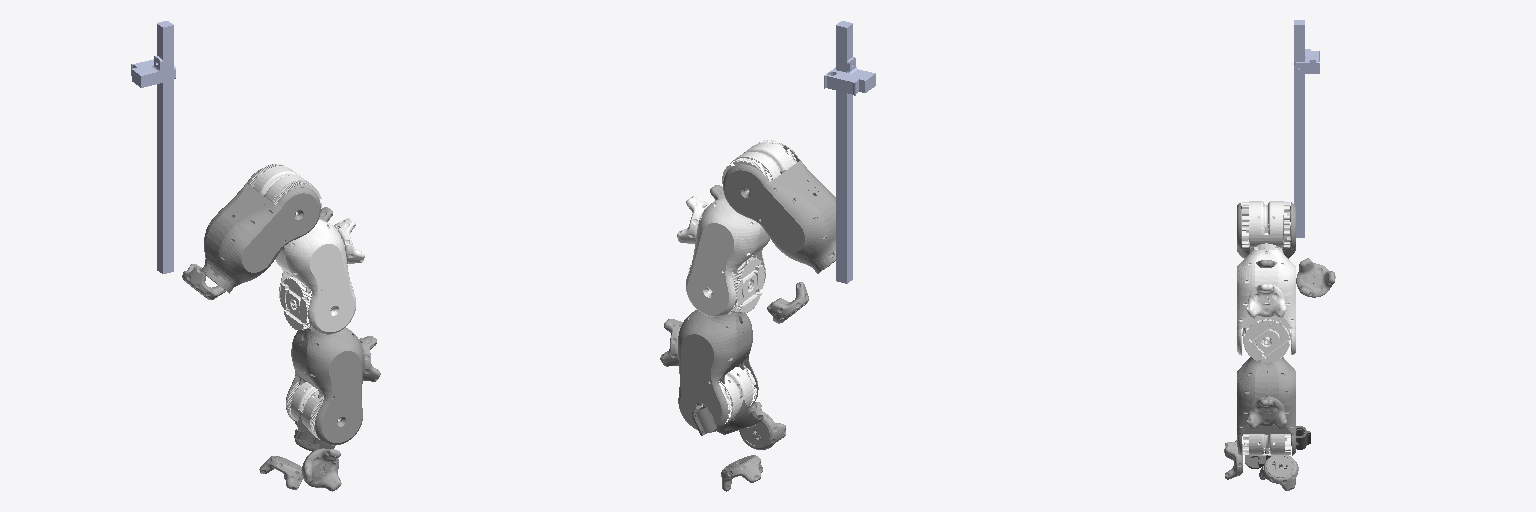
robot.urdf — koko_description_sevendof_kin:
<robot
  name="koko_description_sevendof_kin">
  <link name="world"/>
  <link
    name="base_link">
    <inertial>
      <origin
        xyz="0.012870283424599 -0.146460771615819 0.199851243077833"
        rpy="0 0 0" />
      <mass
        value="5.30617493719281" />
      <inertia
        ixx="0.167859643379243"
        ixy="-0.0181596573247314"
        ixz="0.00370892628271697"
        iyy="0.155525388827852"
        iyz="-0.0306003369765196"
        izz="0.0830686215437385" />
    </inertial>
    <visual>
      <origin
        xyz="0 0 0"
        rpy="0 0 0" />
      <geometry>
        <mesh
          filename="package://koko_description_sevendof_kin/meshes/base_link.STL" />
      </geometry>
      <material
        name="">
        <color
          rgba="0.792156862745098 0.819607843137255 0.933333333333333 1" />
      </material>
    </visual>
    <collision>
      <origin
        xyz="0 0 0"
        rpy="0 0 0" />
      <geometry>
        <mesh
          filename="package://koko_description_sevendof_kin/meshes/base_link.STL" />
      </geometry>
    </collision>
  </link>
  <link
    name="shoulder_link">
    <inertial>
      <origin
        xyz="-0.00518874659014712 7.90714814608018E-06 0.0778921147892145"
        rpy="0 0 0" />
      <mass
        value="2.01456804587825" />
      <inertia
        ixx="0.0104358255696714"
        ixy="1.85927513005904E-06"
        ixz="0.000187864909023401"
        iyy="0.00992302221285427"
        iyz="-3.95022985902063E-06"
        izz="0.00452603936468363" />
    </inertial>
    <visual>
      <origin
        xyz="0 0 0"
        rpy="0 0 0" />
      <geometry>
        <mesh
          filename="package://koko_description_sevendof_kin/meshes/shoulder_link.STL" />
      </geometry>
      <material
        name="">
        <color
          rgba="0.698039215686274 0.698039215686274 0.698039215686274 1" />
      </material>
    </visual>
    <collision>
      <origin
        xyz="0 0 0"
        rpy="0 0 0" />
      <geometry>
        <mesh
          filename="package://koko_description_sevendof_kin/meshes/shoulder_link.STL" />
      </geometry>
    </collision>
  </link>
  <joint
    name="base_roll_joint"
    type="continuous">
    <origin
      xyz="0.0901789447182363 -0.0908049999999997 0.212155832960628"
      rpy="6.83851519316138E-15 0.785398163397447 4.83556046633164E-15" />
    <parent
      link="base_link" />
    <child
      link="shoulder_link" />
    <axis
      xyz="0 0 1" />
  </joint>
  <link
    name="shoulder_lift_link">
    <inertial>
      <origin
        xyz="8.56700436199787E-05 0.00010654053757414 -2.9972230730646E-06"
        rpy="0 0 0" />
      <mass
        value="0.491671117165989" />
      <inertia
        ixx="0.00108090636725938"
        ixy="-6.67404349023893E-06"
        ixz="-6.13266050289641E-07"
        iyy="0.00110224655576866"
        iyz="-9.06027102110219E-07"
        izz="0.000715449666977584" />
    </inertial>
    <visual>
      <origin
        xyz="0 0 0"
        rpy="0 0 0" />
      <geometry>
        <mesh
          filename="package://koko_description_sevendof_kin/meshes/shoulder_lift_link.STL" />
      </geometry>
      <material
        name="">
        <color
          rgba="1 1 1 1" />
      </material>
    </visual>
    <collision>
      <origin
        xyz="0 0 0"
        rpy="0 0 0" />
      <geometry>
        <mesh
          filename="package://koko_description_sevendof_kin/meshes/shoulder_lift_link.STL" />
      </geometry>
    </collision>
  </link>
  <joint
    name="shoulder_lift_joint"
    type="continuous">
    <origin
      xyz="0.0114299285786579 4.04065193964076E-05 0.210820000000001"
      rpy="1.5707963267949 -0.785395039094458 0.0035351359132397" />
    <parent
      link="shoulder_link" />
    <child
      link="shoulder_lift_link" />
    <axis
      xyz="0 0 1" />
  </joint>
  <link
    name="upper_arm_link">
    <inertial>
      <origin
        xyz="0.00609369132194054 -3.24757141115795E-05 0.0608213327590084"
        rpy="0 0 0" />
      <mass
        value="1.74743726474448" />
      <inertia
        ixx="0.00721735480213021"
        ixy="-1.74231660649774E-06"
        ixz="3.18076302441607E-06"
        iyy="0.0066862072655567"
        iyz="4.81729928094709E-06"
        izz="0.00408333582741531" />
    </inertial>
    <visual>
      <origin
        xyz="0 0 0"
        rpy="0 0 0" />
      <geometry>
        <mesh
          filename="package://koko_description_sevendof_kin/meshes/upper_arm_link.STL" />
      </geometry>
      <material
        name="">
        <color
          rgba="1 1 1 1" />
      </material>
    </visual>
    <collision>
      <origin
        xyz="0 0 0"
        rpy="0 0 0" />
      <geometry>
        <mesh
          filename="package://koko_description_sevendof_kin/meshes/upper_arm_link.STL" />
      </geometry>
    </collision>
  </link>
  <joint
    name="shoulder_roll_joint"
    type="continuous">
    <origin
      xyz="0.0245928619569141 -0.0662368676461337 0"
      rpy="1.5707963267949 -0.00266644576657517 0.355511126450564" />
    <parent
      link="shoulder_lift_link" />
    <child
      link="upper_arm_link" />
    <axis
      xyz="0 0 -1" />
  </joint>
  <link
    name="upper_arm_lift_link">
    <inertial>
      <origin
        xyz="8.84356752833548E-05 0.000101387574016315 -3.00231190070166E-06"
        rpy="0 0 0" />
      <mass
        value="0.4910945909981" />
      <inertia
        ixx="0.0010794675496049"
        ixy="-2.637206335515E-06"
        ixz="-1.8617763035461E-06"
        iyy="0.00110223920923269"
        iyz="-8.57651055146512E-07"
        izz="0.000713963218283621" />
    </inertial>
    <visual>
      <origin
        xyz="0 0 0"
        rpy="0 0 0" />
      <geometry>
        <mesh
          filename="package://koko_description_sevendof_kin/meshes/upper_arm_lift_link.STL" />
      </geometry>
      <material
        name="">
        <color
          rgba="1 1 1 1" />
      </material>
    </visual>
    <collision>
      <origin
        xyz="0 0 0"
        rpy="0 0 0" />
      <geometry>
        <mesh
          filename="package://koko_description_sevendof_kin/meshes/upper_arm_lift_link.STL" />
      </geometry>
    </collision>
  </link>
  <joint
    name="elbow_lift_joint"
    type="continuous">
    <origin
      xyz="-0.0114299541998245 3.04774259364815E-05 0.181015677385081"
      rpy="-1.5707963267949 -0.355504877844586 -0.0026664457665753" />
    <parent
      link="upper_arm_link" />
    <child
      link="upper_arm_lift_link" />
    <axis
      xyz="0 0 1" />
  </joint>
  <link
    name="forearm_link">
    <inertial>
      <origin
        xyz="0.00609794825852328 -3.45327458729505E-05 0.0632167600955606"
        rpy="0 0 0" />
      <mass
        value="1.74772059521985" />
      <inertia
        ixx="0.00717580641928532"
        ixy="-1.61087741471946E-06"
        ixz="-3.38766044835458E-06"
        iyy="0.00664405421478125"
        iyz="5.38563806629474E-06"
        izz="0.00408394973892555" />
    </inertial>
    <visual>
      <origin
        xyz="0 0 0"
        rpy="0 0 0" />
      <geometry>
        <mesh
          filename="package://koko_description_sevendof_kin/meshes/forearm_link.STL" />
      </geometry>
      <material
        name="">
        <color
          rgba="0.698039215686274 0.698039215686274 0.698039215686274 1" />
      </material>
    </visual>
    <collision>
      <origin
        xyz="0 0 0"
        rpy="0 0 0" />
      <geometry>
        <mesh
          filename="package://koko_description_sevendof_kin/meshes/forearm_link.STL" />
      </geometry>
    </collision>
  </link>
  <joint
    name="elbow_roll_joint"
    type="continuous">
    <origin
      xyz="0.00778446382641085 -0.0702248716034493 0"
      rpy="1.5707963267949 -0.00251502707069075 0.11039980475715" />
    <parent
      link="upper_arm_lift_link" />
    <child
      link="forearm_link" />
    <axis
      xyz="0 0 -1" />
  </joint>
  <link
    name="forearm_tracker_link">
    <inertial>
      <origin
        xyz="-7.74493666921838E-07 3.04089012037878E-05 0.0143118679906802"
        rpy="0 0 0" />
      <mass
        value="0.085205801529096" />
      <inertia
        ixx="5.02600714967744E-05"
        ixy="3.55487556876048E-09"
        ixz="7.91609112890932E-10"
        iyy="5.05430641945225E-05"
        iyz="-1.54448545755472E-07"
        izz="8.48822146540676E-05" />
    </inertial>
    <visual>
      <origin
        xyz="0 0 0"
        rpy="0 0 0" />
      <geometry>
        <mesh
          filename="package://koko_description_sevendof_kin/meshes/forearm_tracker_link.STL" />
      </geometry>
      <material
        name="">
        <color
          rgba="0.698039215686274 0.698039215686274 0.698039215686274 1" />
      </material>
    </visual>
    <collision>
      <origin
        xyz="0 0 0"
        rpy="0 0 0" />
      <geometry>
        <mesh
          filename="package://koko_description_sevendof_kin/meshes/forearm_tracker_link.STL" />
      </geometry>
    </collision>
  </link>
  <joint
    name="forearm_tracker_joint"
    type="fixed">
    <origin
      xyz="0.0683718588661483 -0.000172162669981935 0.0965426886750276"
      rpy="1.26028779817361 -4.44479261962489E-05 1.56829556254391" />
    <parent
      link="forearm_link" />
    <child
      link="forearm_tracker_link" />
    <axis
      xyz="0 0 0" />
  </joint>
  <link
    name="wrist_lift_link">
    <inertial>
      <origin
        xyz="0.000127836210901899 3.90137200076829E-05 -2.99282089472053E-06"
        rpy="0 0 0" />
      <mass
        value="0.491088159923728" />
      <inertia
        ixx="0.00108469359167175"
        ixy="9.48558786334864E-06"
        ixz="-1.94945080136335E-06"
        iyy="0.00109703339225256"
        iyz="1.85051906992597E-07"
        izz="0.000713962889826841" />
    </inertial>
    <visual>
      <origin
        xyz="0 0 0"
        rpy="0 0 0" />
      <geometry>
        <mesh
          filename="package://koko_description_sevendof_kin/meshes/wrist_lift_link.STL" />
      </geometry>
      <material
        name="">
        <color
          rgba="1 1 1 1" />
      </material>
    </visual>
    <collision>
      <origin
        xyz="0 0 0"
        rpy="0 0 0" />
      <geometry>
        <mesh
          filename="package://koko_description_sevendof_kin/meshes/wrist_lift_link.STL" />
      </geometry>
    </collision>
  </link>
  <joint
    name="wrist_lift_joint"
    type="continuous">
    <origin
      xyz="-0.0114299638505801 2.87467290523424E-05 0.181015691663285"
      rpy="-1.5707963267949 -0.110406053363127 -0.00251502707069052" />
    <parent
      link="forearm_link" />
    <child
      link="wrist_lift_link" />
    <axis
      xyz="0 0 1" />
  </joint>
  <link
    name="wrist_link">
    <inertial>
      <origin
        xyz="-0.000126164739804535 0.0433325364416689 0.0224239702203065"
        rpy="0 0 0" />
      <mass
        value="0.196389998403157" />
      <inertia
        ixx="0.000228576786741867"
        ixy="-5.49849326423581E-07"
        ixz="-5.71606492613851E-07"
        iyy="0.000212235889871566"
        iyz="-8.39385916915871E-05"
        izz="0.000234824604396145" />
    </inertial>
    <visual>
      <origin
        xyz="0 0 0"
        rpy="0 0 0" />
      <geometry>
        <mesh
          filename="package://koko_description_sevendof_kin/meshes/wrist_link.STL" />
      </geometry>
      <material
        name="">
        <color
          rgba="0.498039215686275 0.498039215686275 0.498039215686275 1" />
      </material>
    </visual>
    <collision>
      <origin
        xyz="0 0 0"
        rpy="0 0 0" />
      <geometry>
        <mesh
          filename="package://koko_description_sevendof_kin/meshes/wrist_link.STL" />
      </geometry>
    </collision>
  </link>
  <joint
    name="wrist_joint"
    type="continuous">
    <origin
      xyz="-0.0115762892877892 -0.0214116625791075 0"
      rpy="1.62543589699027E-15 -1.18308141061618E-15 2.64595360386185" />
    <parent
      link="wrist_lift_link" />
    <child
      link="wrist_link" />
    <axis
      xyz="0 -1 0" />
  </joint>



  <link
    name="ee_tracker_link">
    <inertial>
      <origin
        xyz="-1.43305547234407E-06 3.07686086425812E-05 0.0143119732879843"
        rpy="0 0 0" />
      <mass
        value="0.0852083038792347" />
      <inertia
        ixx="5.02597890613365E-05"
        ixy="3.05566589570515E-09"
        ixz="1.41676664956198E-09"
        iyy="5.05458638065493E-05"
        iyz="-1.54535044158343E-07"
        izz="8.4884681388761E-05" />
    </inertial>
    <visual>
      <origin
        xyz="0 0 0"
        rpy="0 0 0" />
      <geometry>
        <mesh
          filename="package://koko_description_sevendof_kin/meshes/ee_tracker_link.STL" />
      </geometry>
      <material
        name="">
        <color
          rgba="0.698039215686274 0.698039215686274 0.698039215686274 1" />
      </material>
    </visual>
    <collision>
      <origin
        xyz="0 0 0"
        rpy="0 0 0" />
      <geometry>
        <mesh
          filename="package://koko_description_sevendof_kin/meshes/ee_tracker_link.STL" />
      </geometry>
    </collision>
  </link>
  <joint
    name="ee_tracker_joint"
    type="fixed">
    <origin
      xyz="0 0.0796100008691862 0.058269700931892"
      rpy="1.09287578986539E-15 4.52676091056148E-15 3.52354834016303E-05" />
    <parent
      link="wrist_link" />
    <child
      link="ee_tracker_link" />
    <axis
      xyz="0 0 0" />
  </joint>


  <link
    name="end_effector">
    <inertial>
      <origin
        xyz="0.0 0.11094848 -0.03186797969"
        rpy="1.57079632679 0 0" />
      <mass
        value="0.0852083038792347" />
      <inertia
        ixx="5.02597890613365E-05"
        ixy="3.05566589570515E-09"
        ixz="1.41676664956198E-09"
        iyy="5.05458638065493E-05"
        iyz="-1.54535044158343E-07"
        izz="8.4884681388761E-05" />
    </inertial>
    <visual>
      <origin
        xyz="0 0 0"
        rpy="0 0 0" />
      <geometry>
        <mesh
          filename="package://koko_description_sevendof_kin/meshes/ee_tracker_link.STL" />
      </geometry>
      <material
        name="">
        <color
          rgba="0.698039215686274 0.698039215686274 0.698039215686274 1" />
      </material>
    </visual>
    <collision>
      <origin
        xyz="0 0 0"
        rpy="0 0 0" />
      <geometry>
        <mesh
          filename="package://koko_description_sevendof_kin/meshes/ee_tracker_link.STL" />
      </geometry>
    </collision>
  </link>
  <joint
    name="end_effector_joint"
    type="fixed">
      <origin
        xyz="0.0 0.11094848 -0.03186797969"
        rpy="-1.57079632679 0 0" />
    <parent
      link="wrist_link" />
    <child
      link="end_effector" />
    <axis
      xyz="0 0 0" />
  </joint>




  <link
    name="upper_arm_tracker_link">
    <inertial>
      <origin
        xyz="-1.01627995979792E-06 0.0398004448694437 0.0669412784859027"
        rpy="0 0 0" />
      <mass
        value="0.0852060439090128" />
      <inertia
        ixx="5.02596760831562E-05"
        ixy="3.31573814724338E-09"
        ixz="9.87009324292282E-10"
        iyy="5.05436913850634E-05"
        iyz="-1.54429265459234E-07"
        izz="8.48824605132763E-05" />
    </inertial>
    <visual>
      <origin
        xyz="0 0 0"
        rpy="0 0 0" />
      <geometry>
        <mesh
          filename="package://koko_description_sevendof_kin/meshes/upper_arm_tracker_link.STL" />
      </geometry>
      <material
        name="">
        <color
          rgba="0.698039215686274 0.698039215686274 0.698039215686274 1" />
      </material>
    </visual>
    <collision>
      <origin
        xyz="0 0 0"
        rpy="0 0 0" />
      <geometry>
        <mesh
          filename="package://koko_description_sevendof_kin/meshes/upper_arm_tracker_link.STL" />
      </geometry>
    </collision>
  </link>
  <joint
    name="upper_arm_tracker_joint"
    type="fixed">
    <origin
      xyz="0.0304107988383049 -7.9845769743736E-05 0.0425940035066137"
      rpy="1.26028781893822 -2.27414330359861E-05 1.56813717848771" />
    <parent
      link="upper_arm_link" />
    <child
      link="upper_arm_tracker_link" />
    <axis
      xyz="0 0 0" />
  </joint>
  <link
    name="base_tracker_link">
    <inertial>
      <origin
        xyz="0.141892034748374 0.112201467355768 0.0281232501077621"
        rpy="0 0 0" />
      <mass
        value="0.0852057940282606" />
      <inertia
        ixx="8.48820896114014E-05"
        ixy="-7.57319547534365E-08"
        ixz="1.54405334129355E-07"
        iyy="5.02596644756146E-05"
        iyz="3.08778002190969E-09"
        izz="5.05436686793134E-05" />
    </inertial>
    <visual>
      <origin
        xyz="0 0 0"
        rpy="0 0 0" />
      <geometry>
        <mesh
          filename="package://koko_description_sevendof_kin/meshes/base_tracker_link.STL" />
      </geometry>
      <material
        name="">
        <color
          rgba="0.698039215686274 0.698039215686274 0.698039215686274 1" />
      </material>
    </visual>
    <collision>
      <origin
        xyz="0 0 0"
        rpy="0 0 0" />
      <geometry>
        <mesh
          filename="package://koko_description_sevendof_kin/meshes/base_tracker_link.STL" />
      </geometry>
    </collision>
  </link>
  <joint
    name="base_tracker_joint"
    type="fixed">
    <origin
      xyz="0.104741193173153 0.0217020515197849 0.138021531898148"
      rpy="-0.00215895279379528 -0.78539656263699 -3.1385396042896" />
    <parent
      link="base_link" />
    <child
      link="base_tracker_link" />
    <axis
      xyz="0 0 0" />
  </joint>
  <link
    name="kinect_link">
    <inertial>
      <origin
        xyz="-0.095254717219956 0.00459138830279149 -0.034674162519563"
        rpy="0 0 0" />
      <mass
        value="0.807440668573839" />
      <inertia
        ixx="0.000577832535560536"
        ixy="3.71862237459264E-07"
        ixz="-1.50835387102005E-05"
        iyy="0.00399387846670323"
        iyz="-2.78207155255422E-05"
        izz="0.00385632976247957" />
    </inertial>
    <visual>
      <origin
        xyz="0 0 0"
        rpy="0 0 0" />
      <geometry>
        <mesh
          filename="package://koko_description_sevendof_kin/meshes/kinect_link.STL" />
      </geometry>
      <material
        name="">
        <color
          rgba="0.101960784313725 0.101960784313725 0.101960784313725 1" />
      </material>
    </visual>
    <collision>
      <origin
        xyz="0 0 0"
        rpy="0 0 0" />
      <geometry>
        <mesh
          filename="package://koko_description_sevendof_kin/meshes/kinect_link.STL" />
      </geometry>
    </collision>
  </link>
  <joint
    name="kinect_joint"
    type="fixed">
    <origin
      xyz="0.0296663032719453 0.0534280083246514 0.655319999999998"
      rpy="-1.5707963267949 -1.5707963267949 -1.5707963267949" />
    <parent
      link="base_link" />
    <child
      link="kinect_link" />
    <axis
      xyz="0 0 0" />
  </joint>

  <joint name ="world_joint" type= "fixed">
    <origin xyz="0 0 2" rpy="0 0 0" />
    <parent link="world"/>
    <child link="base_link"/>
  </joint>

  <transmission name="tran1">
    <type>transmission_interface/SimpleTransmission</type>
    <joint name="base_roll_joint"><hardwareInterface>EffortJointInterface</hardwareInterface>
    </joint>
    <actuator name="motor1">
      <hardwareInterface>EffortJointInterface</hardwareInterface>
      <mechanicalReduction>1</mechanicalReduction>
    </actuator>
  </transmission>

  <transmission name="tran2">
    <type>transmission_interface/SimpleTransmission</type>
    <joint name="shoulder_lift_joint"><hardwareInterface>EffortJointInterface</hardwareInterface>
    </joint>
    <actuator name="motor2">
      <hardwareInterface>EffortJointInterface</hardwareInterface>
      <mechanicalReduction>1</mechanicalReduction>
    </actuator>
  </transmission>

  <transmission name="tran3">
    <type>transmission_interface/SimpleTransmission</type>
    <joint name="shoulder_roll_joint"><hardwareInterface>EffortJointInterface</hardwareInterface>
    </joint>
    <actuator name="motor3">
      <hardwareInterface>EffortJointInterface</hardwareInterface>
      <mechanicalReduction>1</mechanicalReduction>
    </actuator>
  </transmission>
  
  <transmission name="tran4">
    <type>transmission_interface/SimpleTransmission</type>
    <joint name="elbow_lift_joint"><hardwareInterface>EffortJointInterface</hardwareInterface>
    </joint>
    <actuator name="motor4">
      <hardwareInterface>EffortJointInterface</hardwareInterface>
      <mechanicalReduction>1</mechanicalReduction>
    </actuator>
  </transmission>

  <transmission name="tran5">
    <type>transmission_interface/SimpleTransmission</type>
    <joint name="elbow_roll_joint"><hardwareInterface>EffortJointInterface</hardwareInterface>
    </joint>
    <actuator name="motor5">
      <hardwareInterface>EffortJointInterface</hardwareInterface>
      <mechanicalReduction>1</mechanicalReduction>
    </actuator>
  </transmission>

  <transmission name="tran6">
    <type>transmission_interface/SimpleTransmission</type>
    <joint name="wrist_lift_joint"><hardwareInterface>EffortJointInterface</hardwareInterface>
    </joint>
    <actuator name="motor6">
      <hardwareInterface>EffortJointInterface</hardwareInterface>
      <mechanicalReduction>1</mechanicalReduction>
    </actuator>
  </transmission>

  <transmission name="tran7">
    <type>transmission_interface/SimpleTransmission</type>
    <joint name="wrist_joint"><hardwareInterface>EffortJointInterface</hardwareInterface>
    </joint>
    <actuator name="motor7">
      <hardwareInterface>EffortJointInterface</hardwareInterface>
      <mechanicalReduction>1</mechanicalReduction>
    </actuator>
  </transmission>

  <gazebo>
    <plugin name="gazebo_ros_control" filename="libgazebo_ros_control.so">
      <robotNamespace>/DOF</robotNamespace>
    </plugin>
  </gazebo>
  
</robot>

--- Render facts (derived) ---
Views: 3 orthographic renders of the robot side by side, from view 1: azimuth 30°, elevation 25°; view 2: azimuth 150°, elevation 25°; view 3: azimuth 270°, elevation 25°.
Robot: koko_description_sevendof_kin — 15 links, 14 joints (7 continuous, 7 fixed); root link world; default pose: every joint at zero.
Links seen in each view (by area): view 1: shoulder_link, forearm_link, upper_arm_link, base_link, shoulder_lift_link, ee_tracker_link, upper_arm_lift_link, wrist_lift_link, end_effector, base_tracker_link, wrist_link, forearm_tracker_link; view 2: shoulder_link, upper_arm_link, forearm_link, base_link, shoulder_lift_link, upper_arm_lift_link, wrist_lift_link, ee_tracker_link, wrist_link, end_effector, base_tracker_link, forearm_tracker_link; view 3: upper_arm_link, forearm_link, base_link, shoulder_lift_link, upper_arm_lift_link, base_tracker_link, forearm_tracker_link, wrist_lift_link, end_effector, shoulder_link, wrist_link.
Link boxes in pixels (x1=…): shoulder_link: x1=200, y1=169, x2=320, y2=293; forearm_link: x1=286, y1=327, x2=363, y2=445; upper_arm_link: x1=275, y1=218, x2=364, y2=334; base_link: x1=131, y1=21, x2=175, y2=273; shoulder_lift_link: x1=250, y1=164, x2=321, y2=214; ee_tracker_link: x1=302, y1=448, x2=341, y2=491; upper_arm_lift_link: x1=280, y1=276, x2=353, y2=329; wrist_lift_link: x1=287, y1=382, x2=340, y2=439; end_effector: x1=259, y1=456, x2=303, y2=489; base_tracker_link: x1=182, y1=264, x2=225, y2=299; wrist_link: x1=294, y1=414, x2=334, y2=451; forearm_tracker_link: x1=359, y1=336, x2=380, y2=381; shoulder_link: x1=723, y1=145, x2=835, y2=273; upper_arm_link: x1=677, y1=196, x2=769, y2=316; forearm_link: x1=678, y1=310, x2=758, y2=432; base_link: x1=824, y1=21, x2=875, y2=283; shoulder_lift_link: x1=722, y1=140, x2=796, y2=192; upper_arm_lift_link: x1=688, y1=257, x2=764, y2=312; wrist_lift_link: x1=702, y1=365, x2=756, y2=423; ee_tracker_link: x1=739, y1=402, x2=785, y2=449; wrist_link: x1=691, y1=400, x2=763, y2=435; end_effector: x1=721, y1=455, x2=762, y2=491; base_tracker_link: x1=767, y1=282, x2=808, y2=323; forearm_tracker_link: x1=660, y1=319, x2=682, y2=366; upper_arm_link: x1=1237, y1=243, x2=1295, y2=355; forearm_link: x1=1237, y1=339, x2=1295, y2=455; base_link: x1=1294, y1=20, x2=1319, y2=237; shoulder_lift_link: x1=1242, y1=201, x2=1290, y2=248; upper_arm_lift_link: x1=1243, y1=319, x2=1290, y2=362; base_tracker_link: x1=1296, y1=258, x2=1335, y2=297; forearm_tracker_link: x1=1247, y1=396, x2=1286, y2=429; wrist_lift_link: x1=1243, y1=434, x2=1290, y2=455; end_effector: x1=1259, y1=455, x2=1298, y2=490; shoulder_link: x1=1237, y1=202, x2=1295, y2=258; wrist_link: x1=1244, y1=426, x2=1310, y2=468.
Size in the robot's own frame: 0.5097 by 0.2602 by 1.08 metres.
Meshes: 13 distinct files referenced, 13 mesh visuals loaded (12 binary STL); not drawn: 1 (reference not matched to a file when rendering).